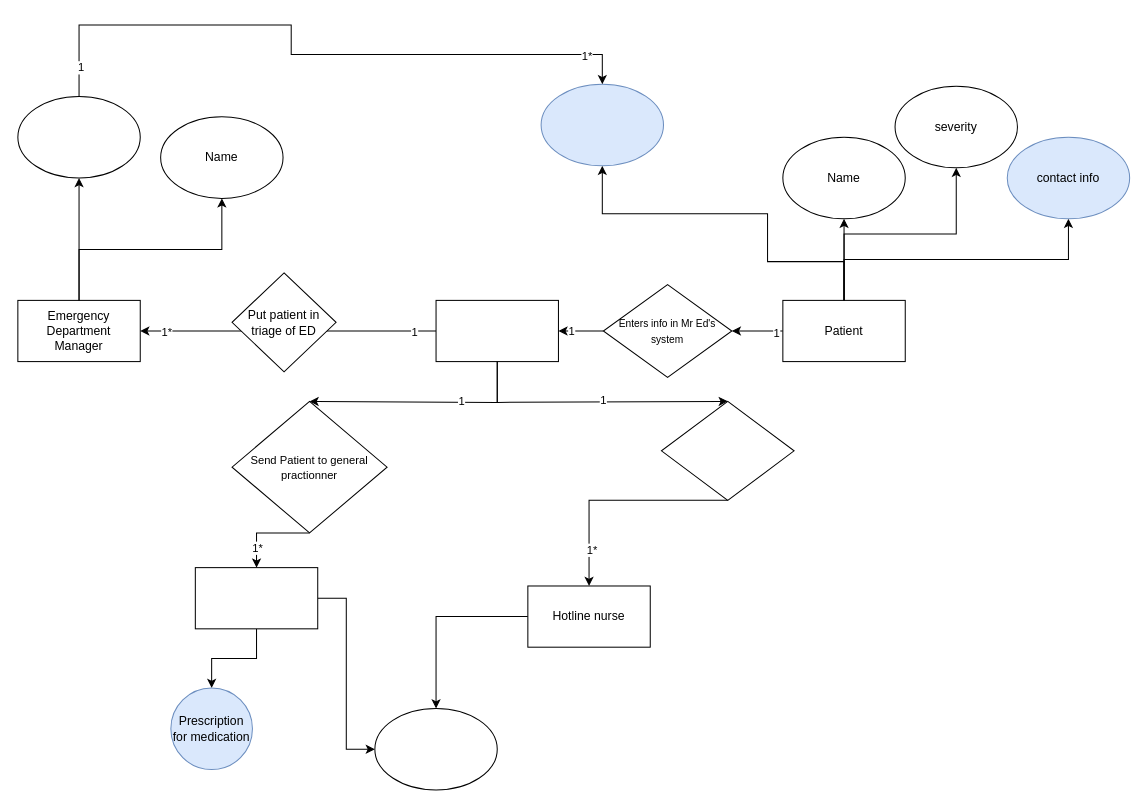
Some shapes in this 1148 by 808 pixel diagram are drawn without their labels. Here are the shapes that lost their labels. From the top down, the centre of each, then its label:
point (78, 136): Emergency Department Availability
point (602, 124): appointment time
point (496, 330): Mr's Ed system
point (727, 450): Connect patient to Hotline nurse
point (256, 598): General Practionner
point (435, 748): Patient info
